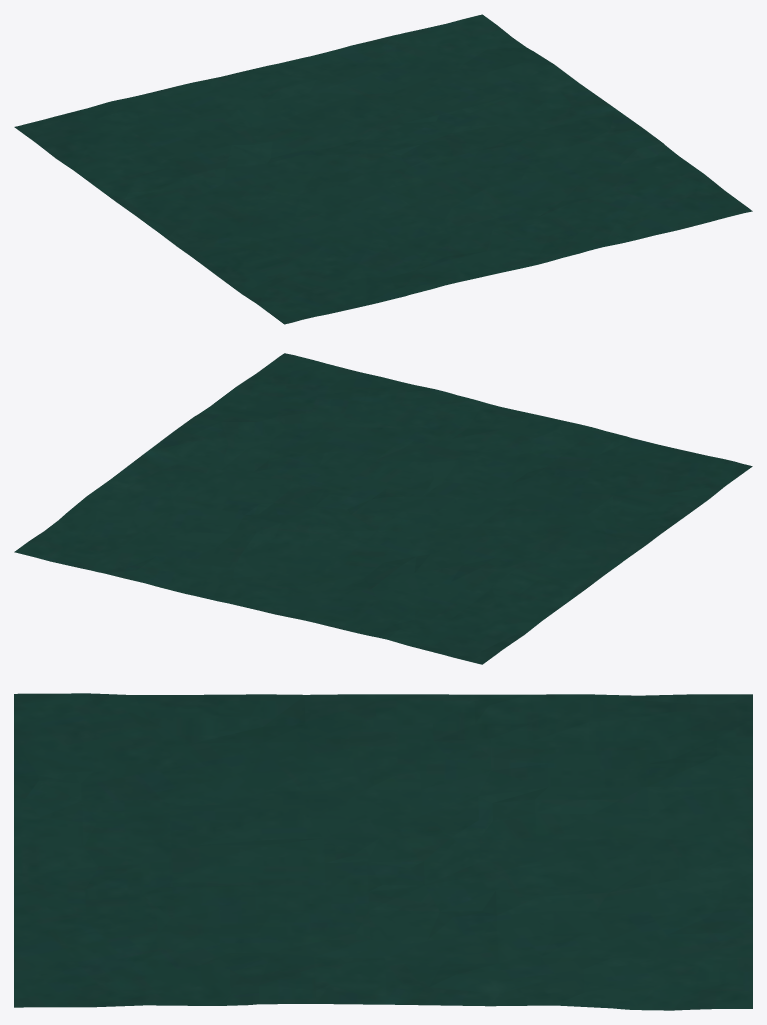
3 renders of one model, top to bottom at view 1: azimuth 30°, elevation 25°; view 2: azimuth 150°, elevation 25°; view 3: azimuth 270°, elevation 25°, orthographic. The views are drawn at different scales.
Bounding box in the file's own units: 52.22 × 0.6139 × 52.22.
Materials: 2 (2 with a texture image).
